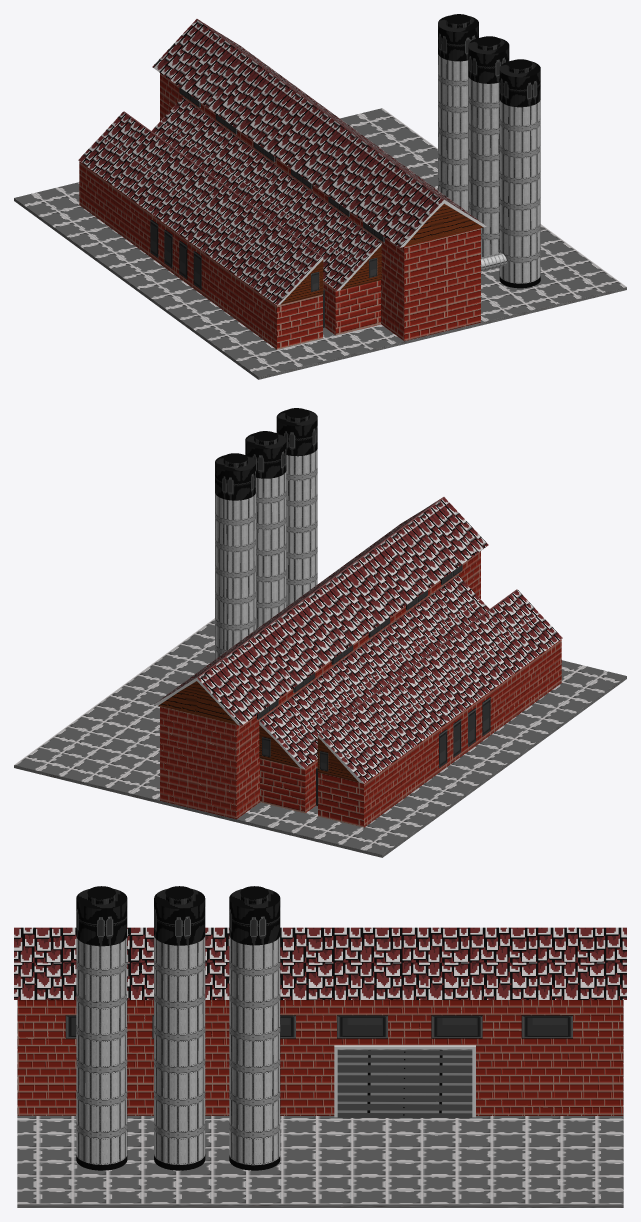
File: Factory (PixelArt) 1.fbx
The picture shows the model from 3 angles, top to bottom: view 1: azimuth 30°, elevation 25°; view 2: azimuth 150°, elevation 25°; view 3: azimuth 270°, elevation 25°; orthographic projection. The views are drawn at different scales.
Parts seen in each view (by area): view 1: Rooves, Ground, Funnels, Side Building, Main Building, Window; view 2: Rooves, Ground, Funnels, Side Building, Main Building, Window; view 3: Ground, Funnels, Main Building, Rooves, Door, Window.
Boxes of the visible parts, x1,y1,x2,y2 form: Rooves: (78,19,486,305); Ground: (14,108,626,379); Funnels: (438,14,540,288); Side Building: (79,161,380,349); Main Building: (160,73,480,341); Window: (150,87,384,292); Rooves: (154,497,562,783); Ground: (14,618,626,857); Funnels: (215,408,317,659); Side Building: (260,639,561,827); Main Building: (160,551,480,819); Window: (257,564,490,771); Ground: (17,1000,623,1207); Funnels: (76,886,280,1170); Main Building: (17,1000,623,1115); Rooves: (14,927,626,999); Door: (334,1045,475,1117); Window: (65,1015,572,1038).
Size of the model in its own units: 2061 by 1169 by 2395.
